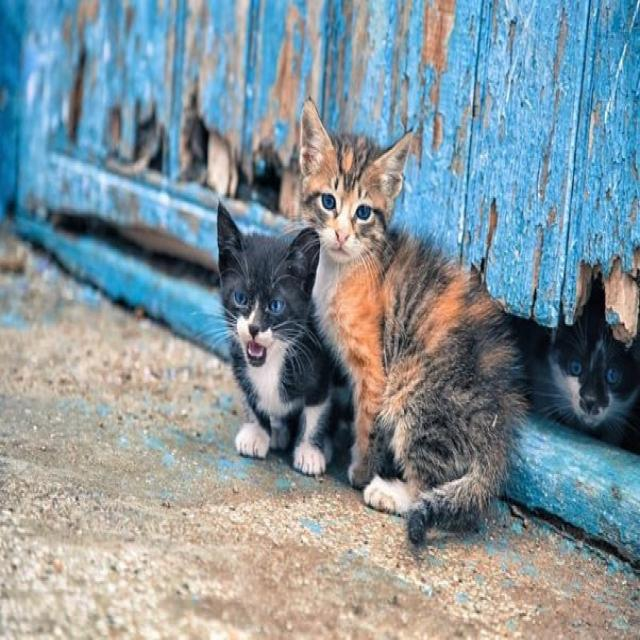cat: (300, 101, 526, 543), (218, 203, 352, 476), (512, 278, 640, 453)
